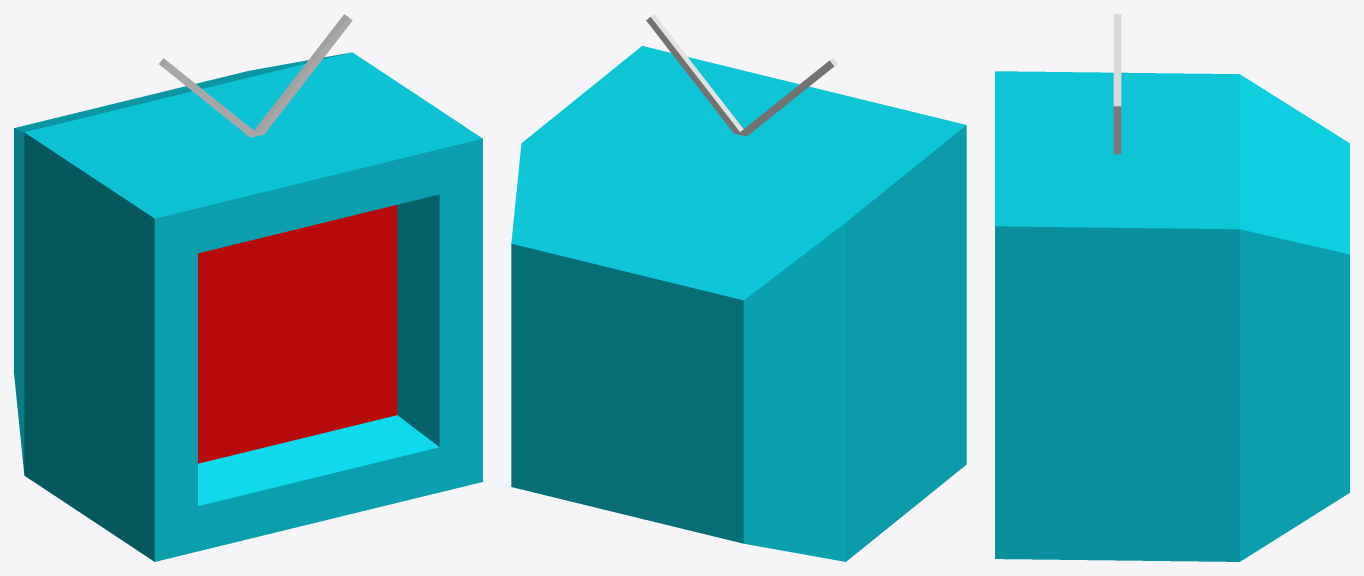
The model's file is monitor.FBX.
3 views of the same model, side by side, from view 1: azimuth 30°, elevation 25°; view 2: azimuth 150°, elevation 25°; view 3: azimuth 270°, elevation 25° (orthographic). The views are drawn at different scales.
Visible parts, largest first — view 1: Box001, Box003, Box002; view 2: Box001, Box003, Box002; view 3: Box001, Box002, Box003.
Part boxes in pixels (x1,y1,x2,y2): Box001: (14,52,482,561); Box003: (254,14,352,135); Box002: (159,58,259,137); Box001: (511,46,966,561); Box003: (646,14,743,134); Box002: (738,58,837,136); Box001: (995,71,1349,561); Box002: (1113,14,1121,99); Box003: (1113,99,1121,154).
Bounding box in the file's own units: 15.19 × 19.37 × 14.49.
